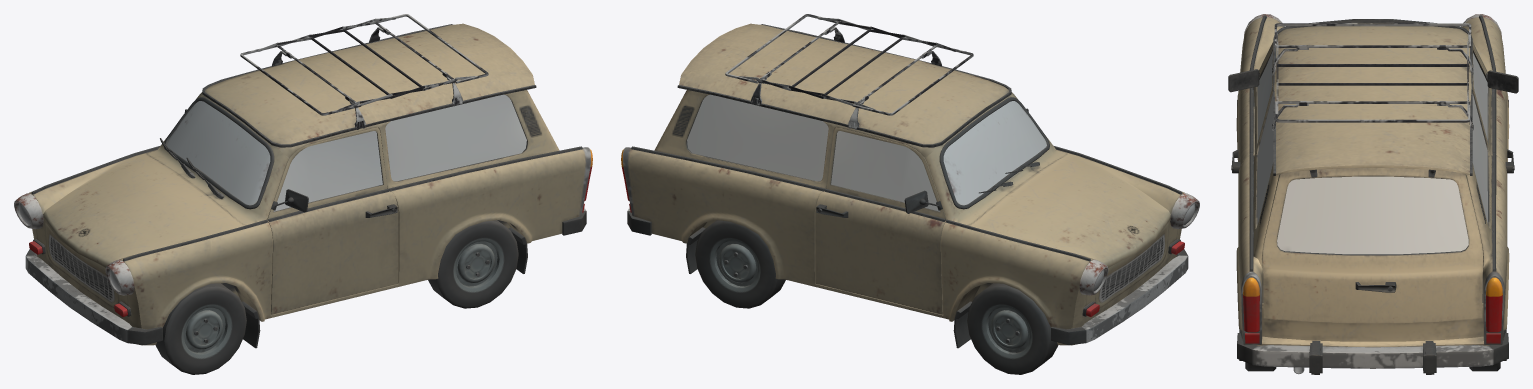
File: trabant_601.gltf
The picture shows the model from 3 angles, left to right: view 1: azimuth 30°, elevation 25°; view 2: azimuth 150°, elevation 25°; view 3: azimuth 270°, elevation 25°; orthographic projection. The views are drawn at different scales.
Parts seen in each view (by area): view 1: body, left_door, front_wheels, back_wheels; view 2: body, right_door, front_wheels, back_wheels; view 3: body, back_door, right_door, left_door, back_wheels.
Part boxes in pixels (bbox=[...]): body: bbox=[14, 14, 592, 348]; left_door: bbox=[267, 127, 398, 314]; front_wheels: bbox=[155, 283, 246, 374]; back_wheels: bbox=[428, 220, 518, 308]; body: bbox=[621, 14, 1199, 348]; right_door: bbox=[815, 127, 946, 314]; front_wheels: bbox=[967, 283, 1058, 374]; back_wheels: bbox=[695, 220, 785, 308]; body: bbox=[1236, 14, 1509, 374]; back_door: bbox=[1262, 168, 1483, 323]; right_door: bbox=[1472, 47, 1518, 175]; left_door: bbox=[1228, 47, 1273, 178]; back_wheels: bbox=[1245, 362, 1500, 371].
Size of the model in its own units: 2.99 by 1.31 by 1.31.
1 material, 1 textured.
